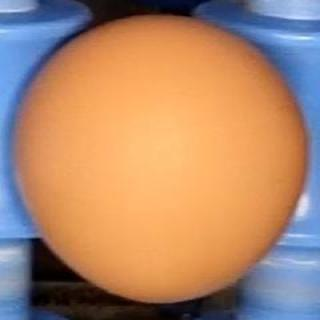Telur: (11, 16, 311, 306)
